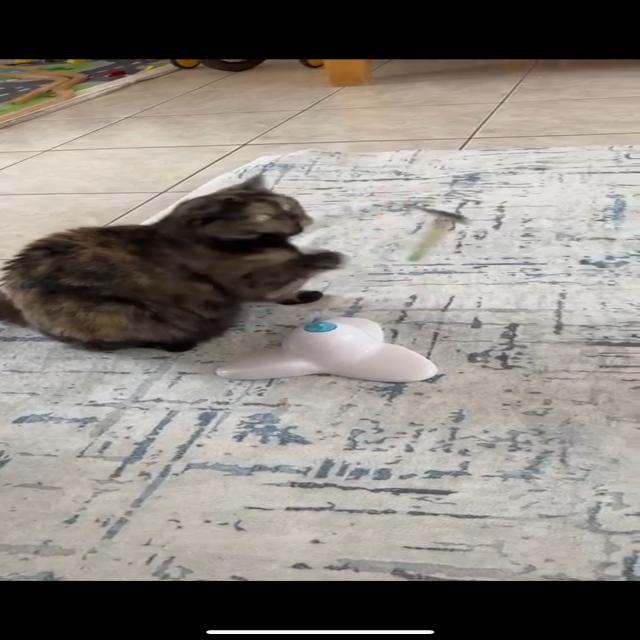authorized: (1, 173, 343, 353)
